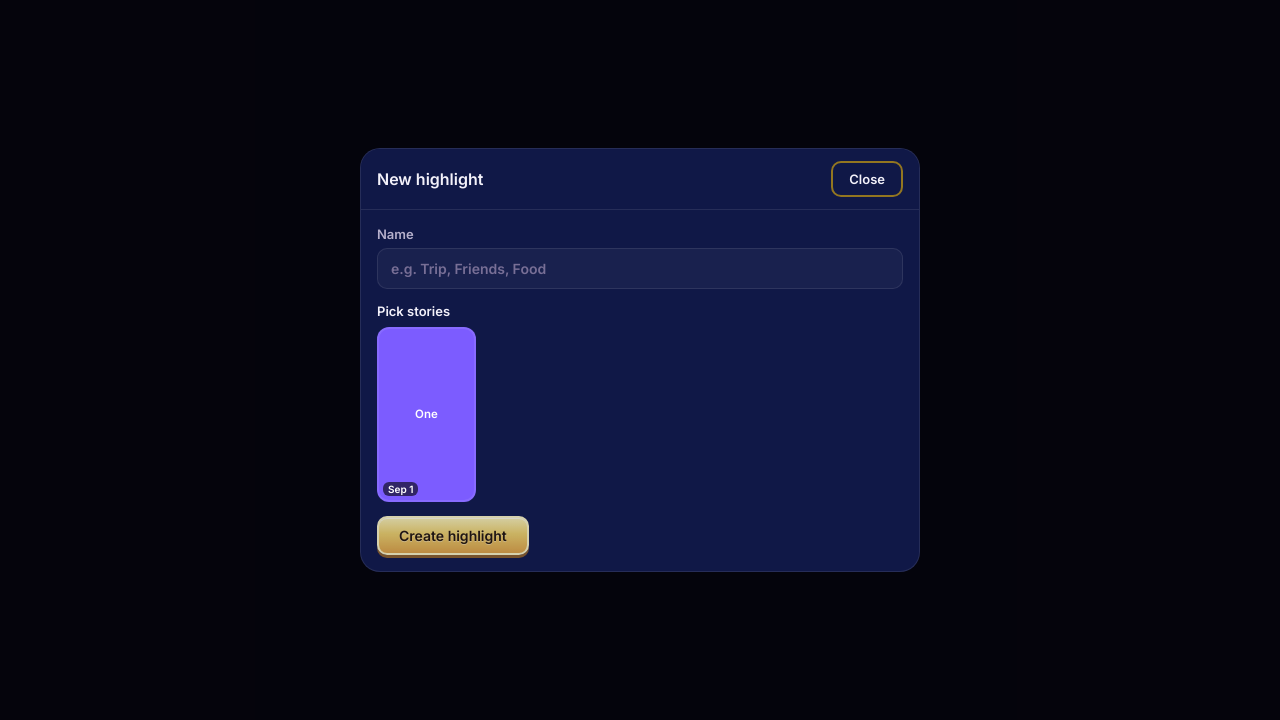
Scenario: highlight editor › refuses to save without a name and tells me
Expected: the text "One" is shown, [415,407,438,421]
Step 1. Click the button named "story from" → x=426, y=414, box [377,327,476,502]
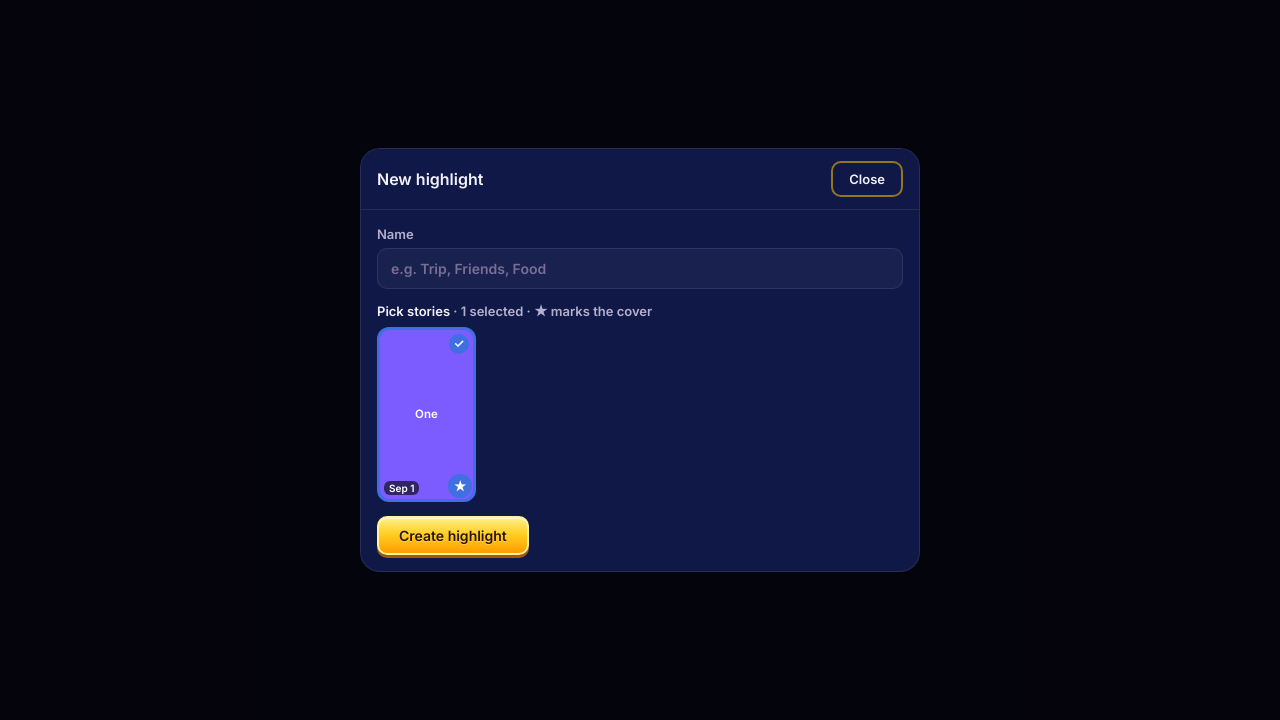
Step 2. Click the button "Create highlight" → x=453, y=536, box [377,516,529,555]
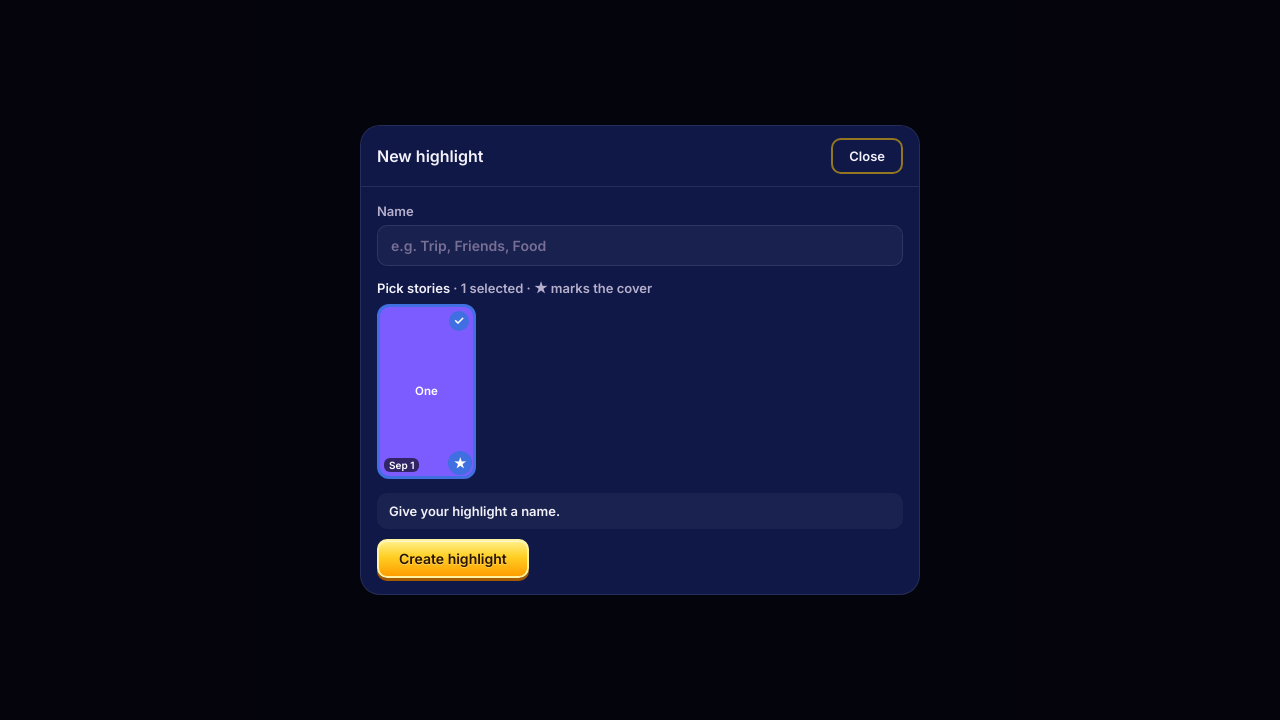
Expected: the text "Give your highlight a name." is shown, [377,493,903,529]
